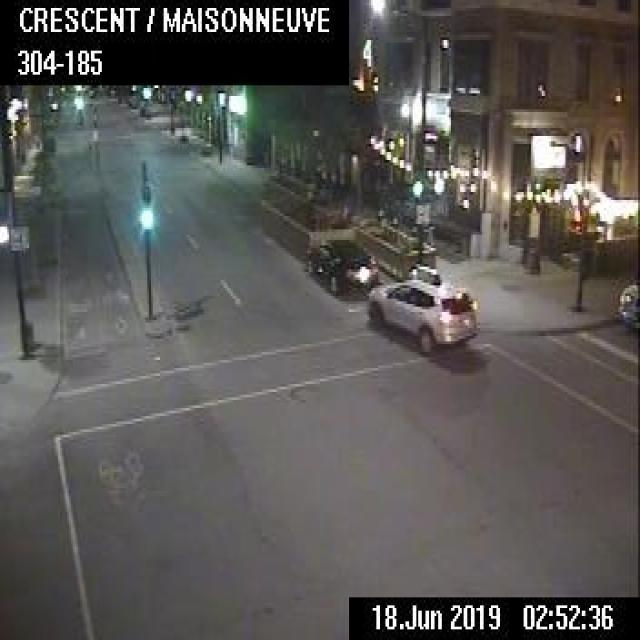vehicle: (367, 262, 478, 354), (306, 234, 376, 294), (616, 277, 638, 330)
